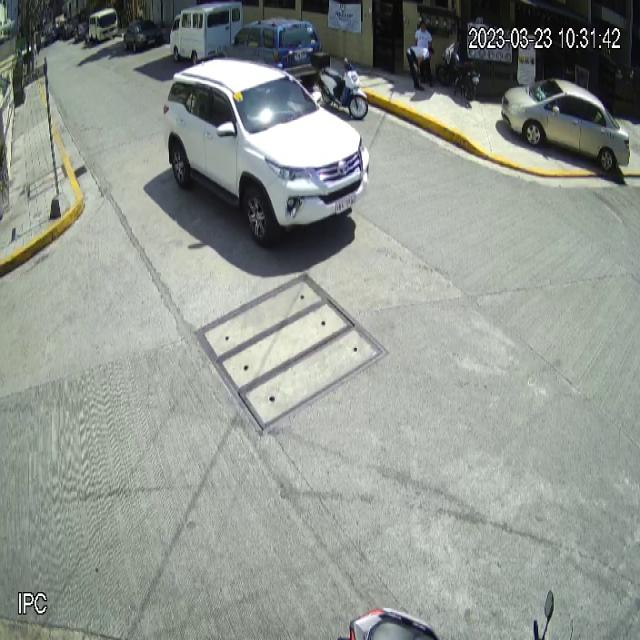Car: (161, 48, 373, 256), (501, 77, 632, 176)
Motorcycle: (311, 51, 369, 120)
Van: (169, 0, 243, 68)
